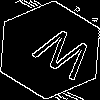W: (25, 25, 97, 89)
